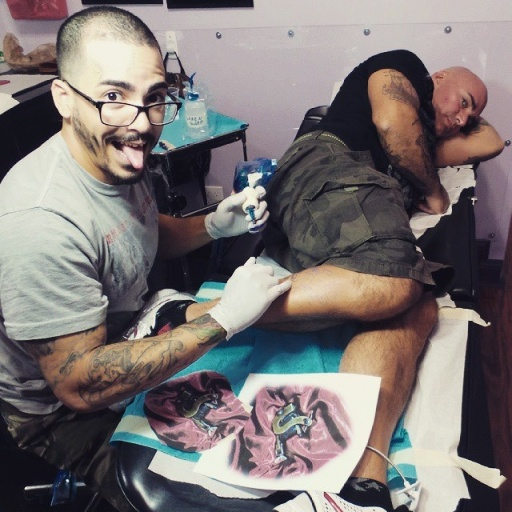hand: (211, 256, 292, 343), (198, 180, 260, 232), (416, 185, 449, 213)
